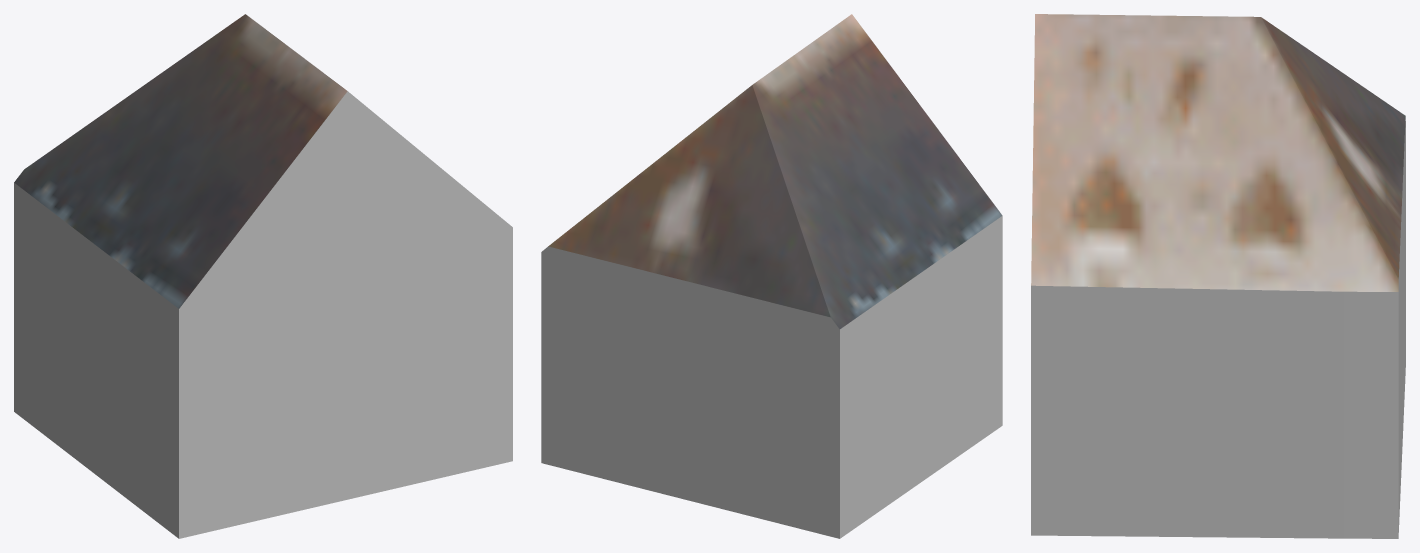
The model's file is DEBW_0010007Txep.gltf.
The picture shows the model from 3 angles, left to right: view 1: azimuth 30°, elevation 25°; view 2: azimuth 150°, elevation 25°; view 3: azimuth 270°, elevation 25°; orthographic projection. The views are drawn at different scales.
Visible parts, largest first — view 1: Z_UP; view 2: Z_UP; view 3: Z_UP.
Part boxes in pixels (box(x1,y1,x2,y2)): Z_UP: box(14, 14, 512, 538); Z_UP: box(541, 14, 1002, 538); Z_UP: box(1031, 14, 1405, 538).
Bounding box in the file's own units: 10.24 × 11.87 × 9.24.
Materials: 2 (1 with a texture image).
